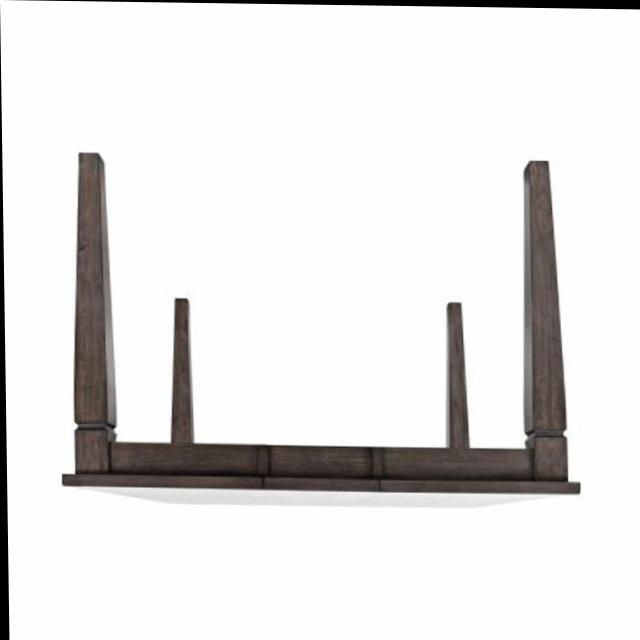Table: (34, 120, 601, 524)
